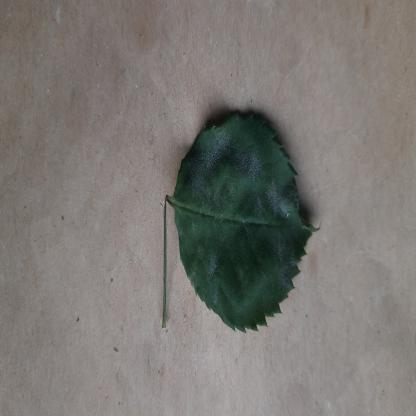powdery-mildew: (170, 106, 322, 334)
